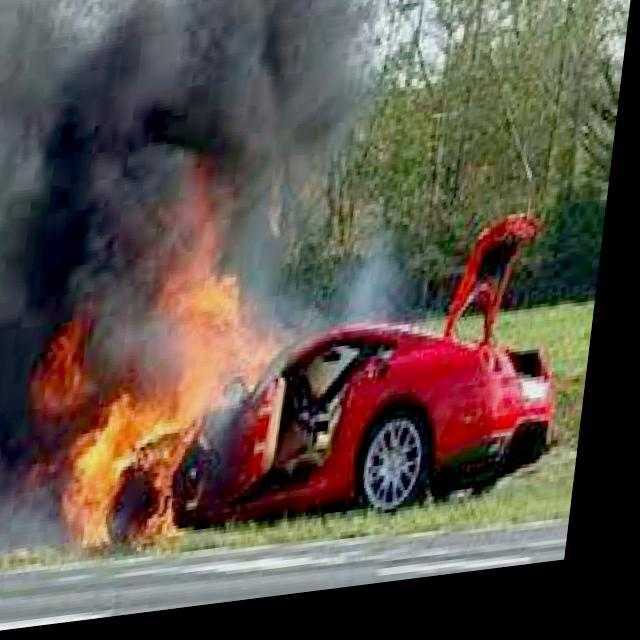Fire: (32, 135, 317, 575)
